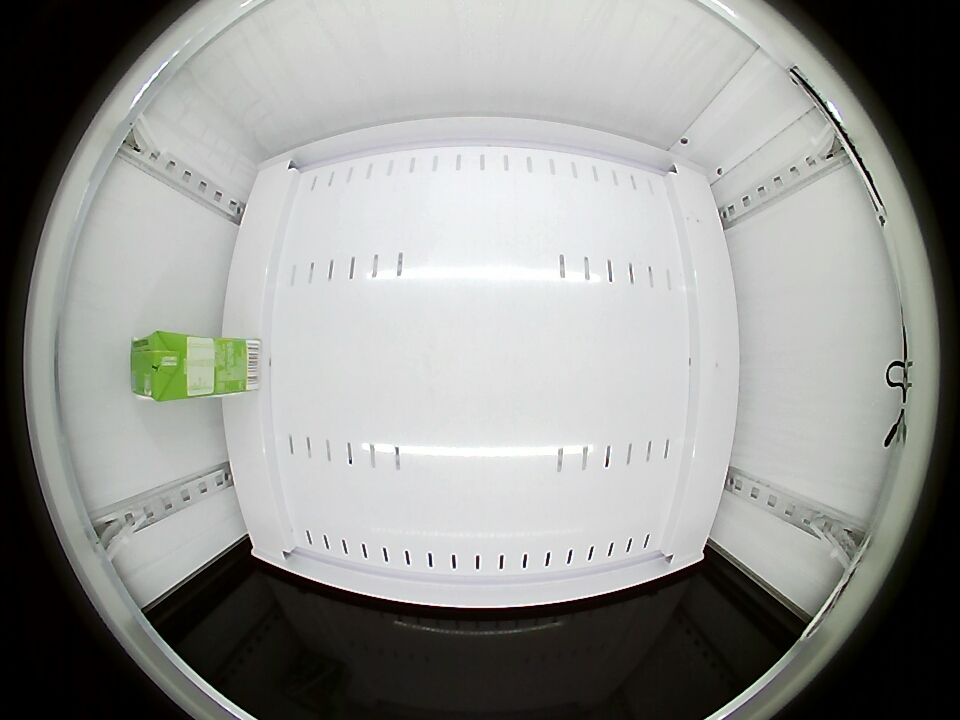mengniuzaocan: (132, 331, 190, 401)
